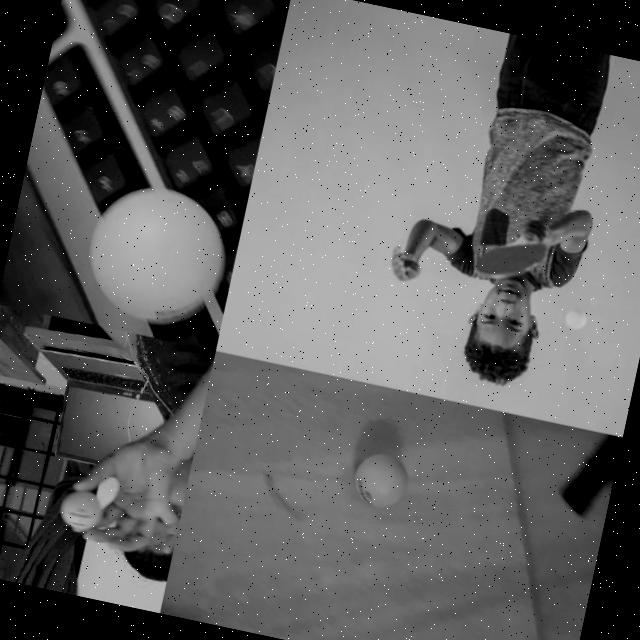ping-pong-ball: (77, 176, 232, 334), (348, 446, 414, 514), (57, 488, 106, 534), (565, 307, 587, 330)
